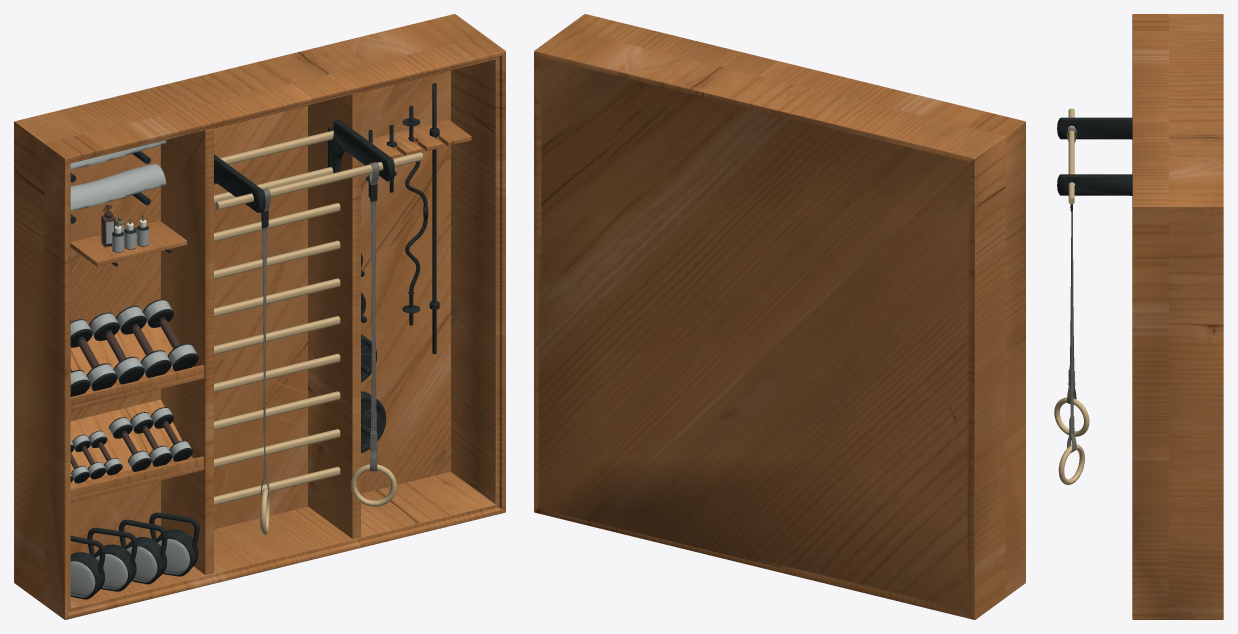
File: gym-equipment-03.glb
3 views of the same model, side by side, from view 1: azimuth 30°, elevation 25°; view 2: azimuth 150°, elevation 25°; view 3: azimuth 270°, elevation 25° (orthographic). The views are drawn at different scales.
Parts seen in each view (by area): view 1: Gym | Oak cabinet, Gym | Black rubber weights, Gym | Pale wood rungs, Gym | Brushed steel, Gym | Woven suspension straps, Gym | Dumbbell grips; view 2: Gym | Oak cabinet; view 3: Gym | Oak cabinet, Gym | Black rubber weights, Gym | Pale wood rungs, Gym | Woven suspension straps.
Part boxes in pixels (box(x1,y1,x2,y2)): Gym | Oak cabinet: box(14, 14, 505, 619); Gym | Black rubber weights: box(70, 83, 439, 599); Gym | Pale wood rungs: box(214, 130, 423, 535); Gym | Brushed steel: box(70, 140, 196, 597); Gym | Woven suspension straps: box(260, 162, 379, 497); Gym | Dumbbell grips: box(70, 204, 180, 468); Gym | Oak cabinet: box(534, 14, 1025, 619); Gym | Oak cabinet: box(1132, 14, 1223, 619); Gym | Black rubber weights: box(1057, 117, 1132, 210); Gym | Pale wood rungs: box(1054, 108, 1089, 484); Gym | Woven suspension straps: box(1067, 127, 1076, 452).
Bounding box in the file's own units: 2 × 2 × 0.7428.
Materials: 8 (1 with a texture image).
